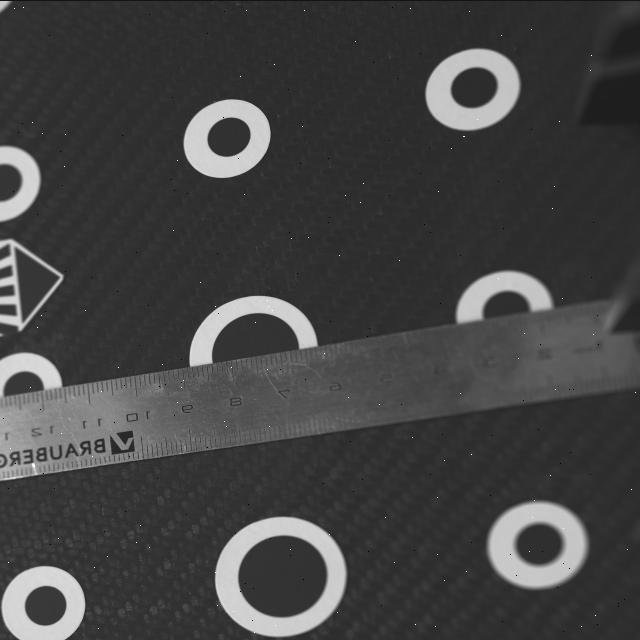circle point: (238, 535, 328, 616), (212, 312, 300, 362), (451, 67, 497, 108), (516, 524, 562, 564), (207, 116, 251, 156), (24, 585, 66, 625), (482, 290, 530, 318), (4, 370, 45, 401), (0, 163, 22, 199)
white circle: (215, 516, 348, 636), (188, 294, 318, 366), (488, 499, 590, 589), (426, 48, 522, 130), (184, 98, 272, 176), (0, 565, 84, 640), (0, 146, 40, 220), (0, 352, 63, 398)
